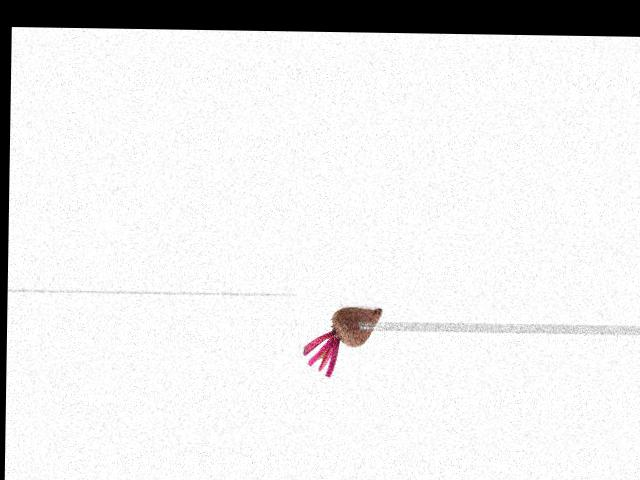beet: (302, 306, 383, 378)
